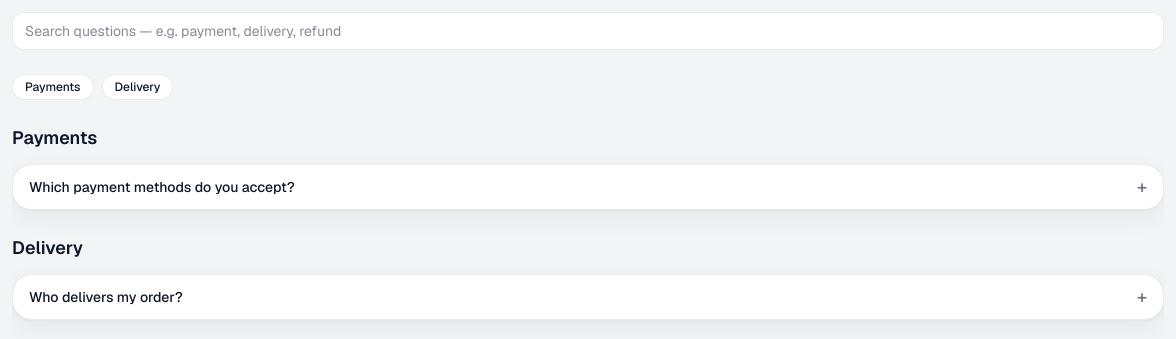
Test: FaqList › filters questions by question or answer text, ignoring case
In the search field named "Search help articles": point(588, 31) [12,12,1164,50], type "RIDERS"
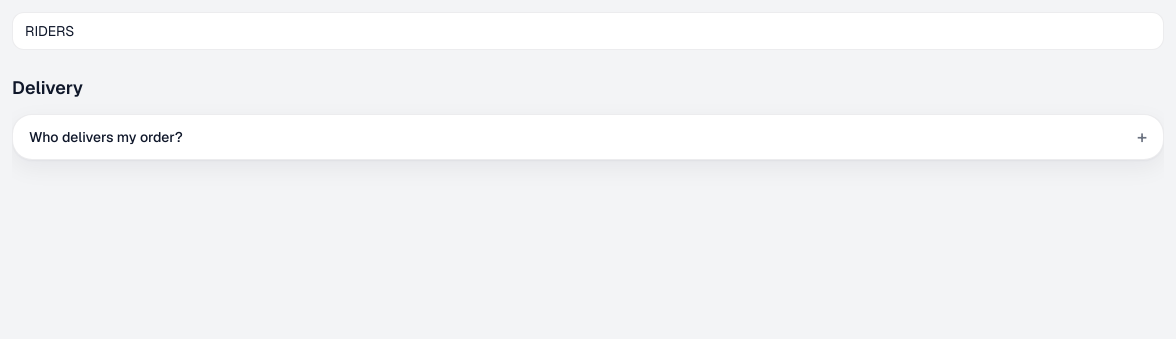
Expected: the heading "Who delivers my order? +" is shown, [29,125,1147,148]
Result: the heading "Which payment methods do you accept?" is gone
Result: the link "Payments" is gone
